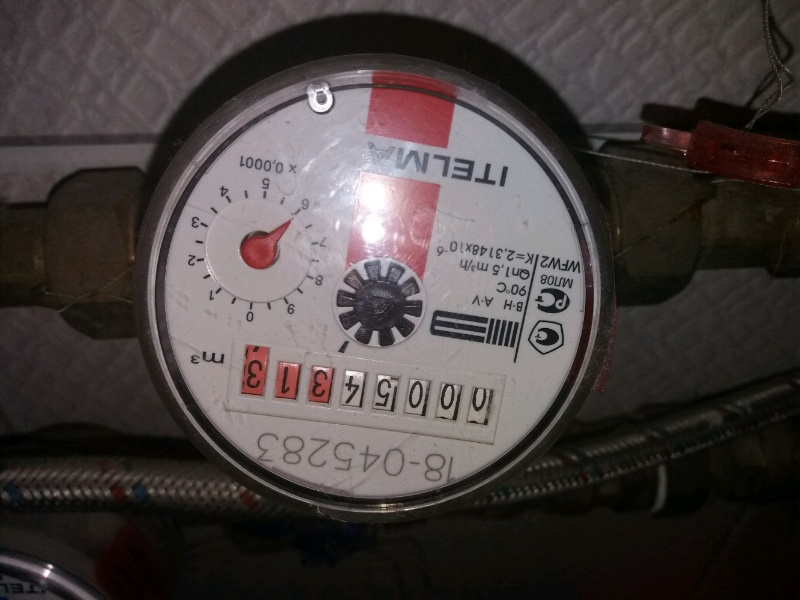dial: (242, 350, 491, 439)
